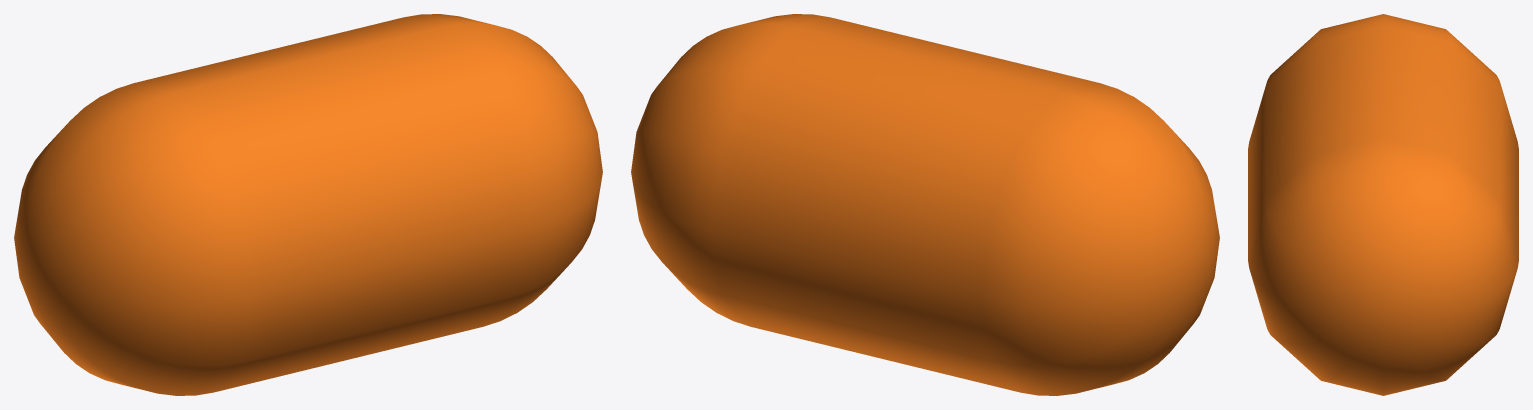
3 views of the same model, side by side, from view 1: azimuth 30°, elevation 25°; view 2: azimuth 150°, elevation 25°; view 3: azimuth 270°, elevation 25° (orthographic). The views are drawn at different scales.
Parts seen in each view (by area): view 1: gripper_frame; view 2: gripper_frame; view 3: gripper_frame.
Boxes of the visible parts, x1,y1,x2,y2 form: gripper_frame: (14, 14, 602, 395); gripper_frame: (631, 14, 1219, 395); gripper_frame: (1248, 14, 1518, 395).
Size of the model in its own units: 0.0237 by 0.012 by 0.012.
